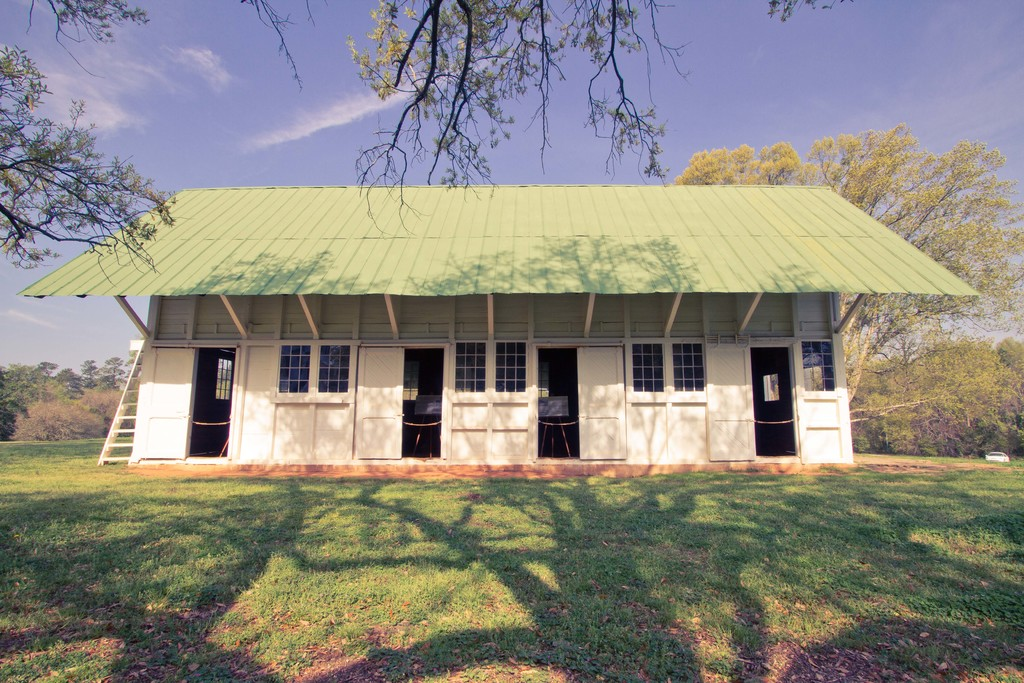Tree: (0, 0, 853, 285), (670, 122, 1024, 454), (0, 336, 146, 438)
